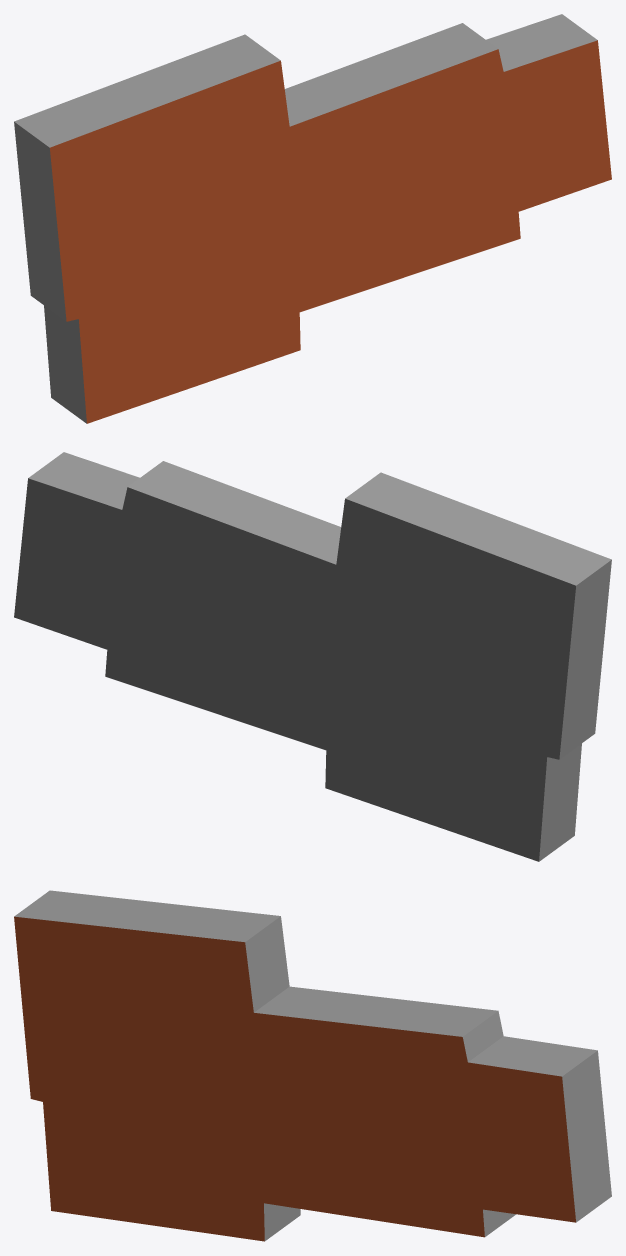
File: construction_4219_assumed_A_Casa_h6m.obj
3 renders of one model, top to bottom at view 1: azimuth 30°, elevation 25°; view 2: azimuth 150°, elevation 25°; view 3: azimuth 330°, elevation 25°, orthographic.
Visible parts, largest first — view 1: construction_4219_assumed_A_Casa; view 2: construction_4219_assumed_A_Casa; view 3: construction_4219_assumed_A_Casa.
Boxes of the visible parts, left/top/right/bottom form: construction_4219_assumed_A_Casa: left=14, top=14, right=611, bottom=423; construction_4219_assumed_A_Casa: left=14, top=452, right=611, bottom=861; construction_4219_assumed_A_Casa: left=14, top=890, right=611, bottom=1241.
Bounding box in the file's own units: 54.39 × 29.22 × 6.
